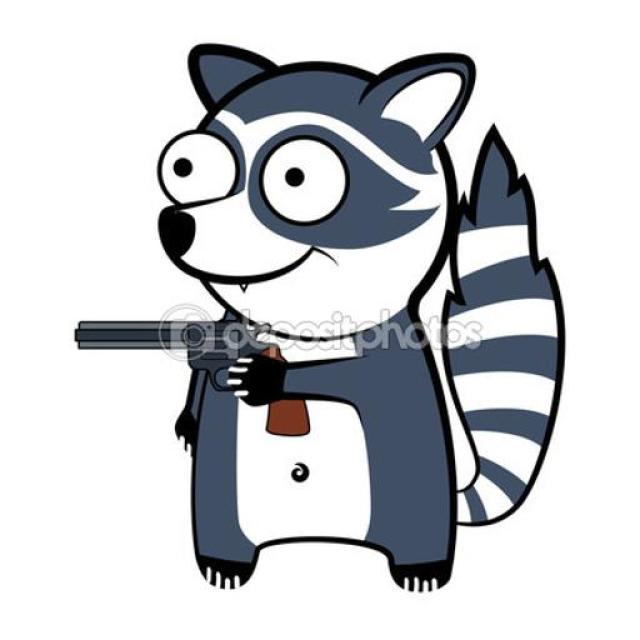pistol: (69, 315, 311, 437)
